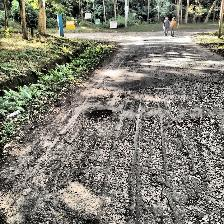pothole: (84, 108, 112, 124), (176, 119, 198, 130)
